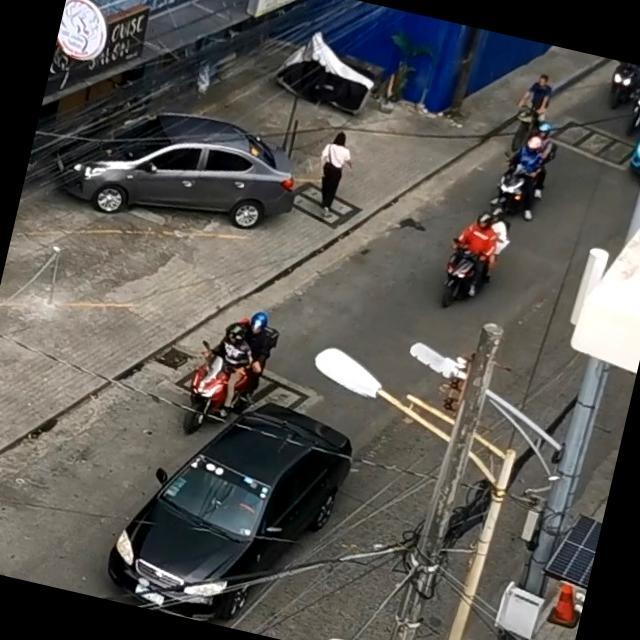Car: (95, 376, 351, 640), (55, 88, 292, 246), (623, 67, 640, 194)
